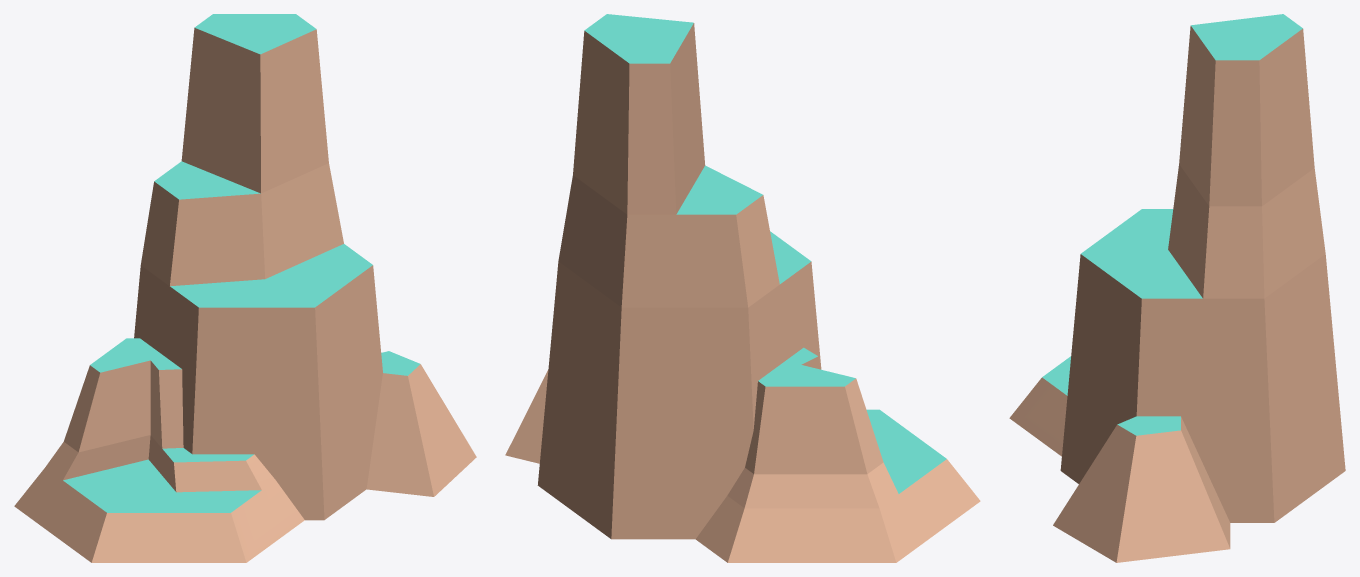
File: rock_tallA.gltf
The picture shows the model from 3 angles, left to right: view 1: azimuth 30°, elevation 25°; view 2: azimuth 150°, elevation 25°; view 3: azimuth 270°, elevation 25°; orthographic projection. The views are drawn at different scales.
Visible parts, largest first — view 1: rock_tallA; view 2: rock_tallA; view 3: rock_tallA.
Boxes of the visible parts, x1,y1,x2,y2 form: rock_tallA: (14, 14, 476, 562); rock_tallA: (505, 14, 980, 562); rock_tallA: (1009, 14, 1345, 562).
Bounding box in the file's own units: 0.9831 × 0.9959 × 0.6832.
